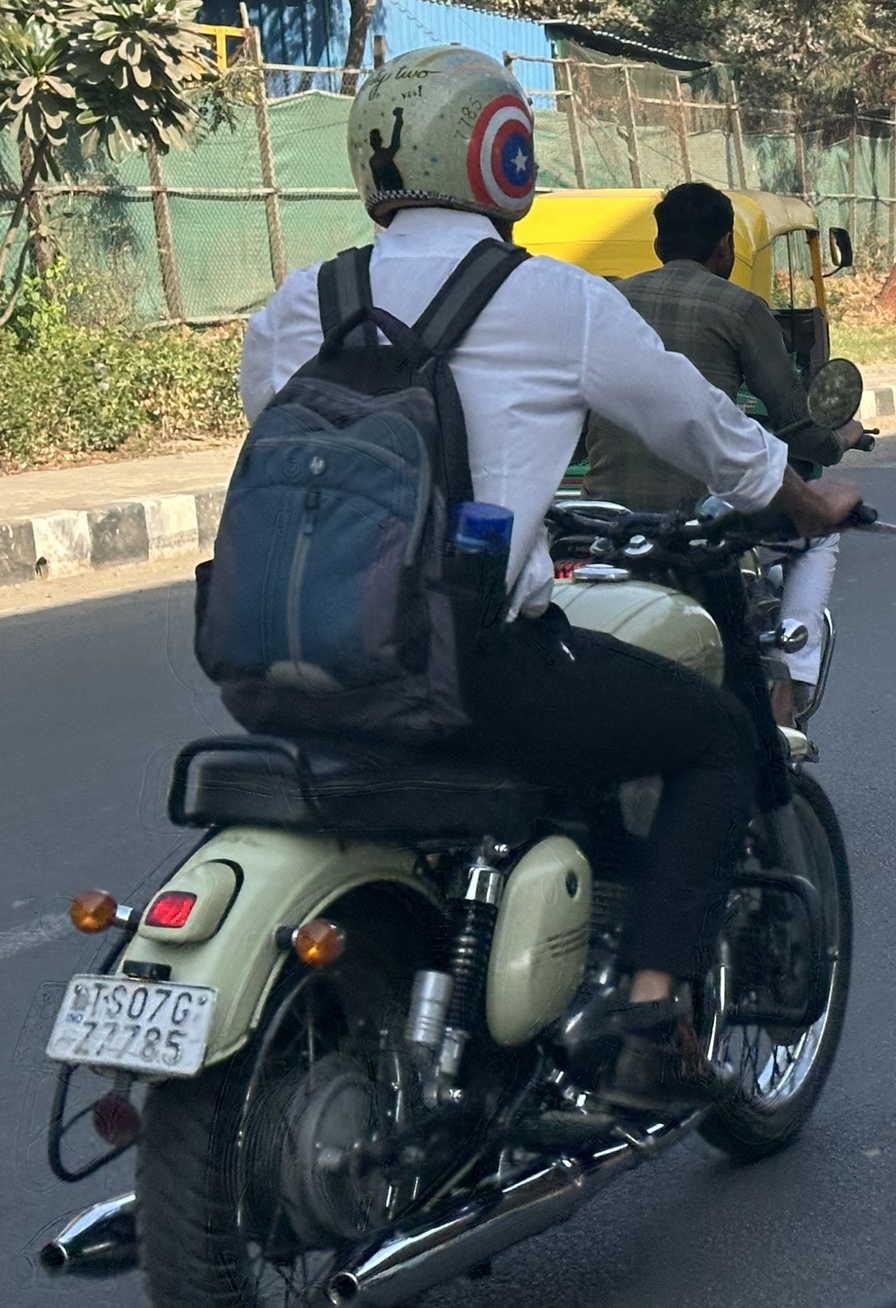BikeWithRider: (23, 27, 893, 1306)
Helmet: (329, 31, 555, 245)
